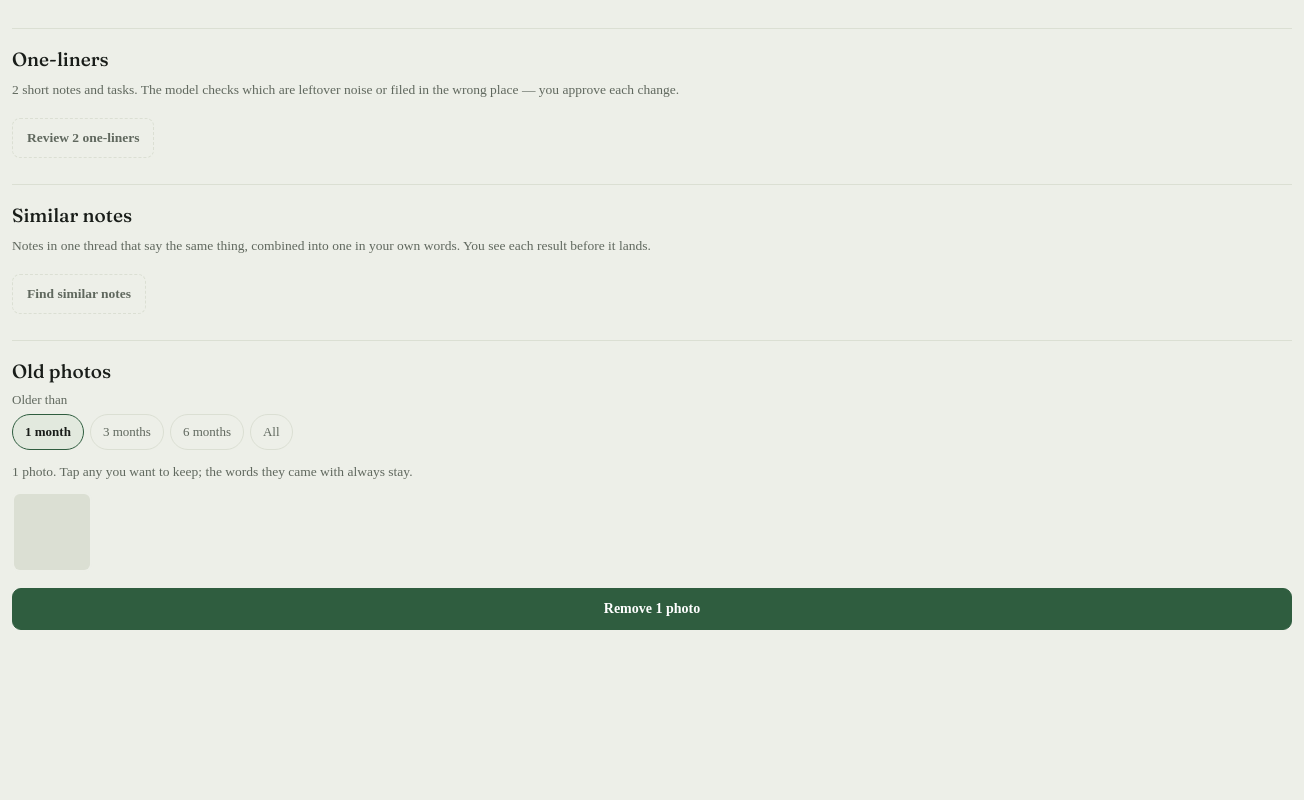
Test: changes nothing when the model does not answer
Click the button "Review 2 one-liners" at (83, 138), box [12, 118, 154, 158]
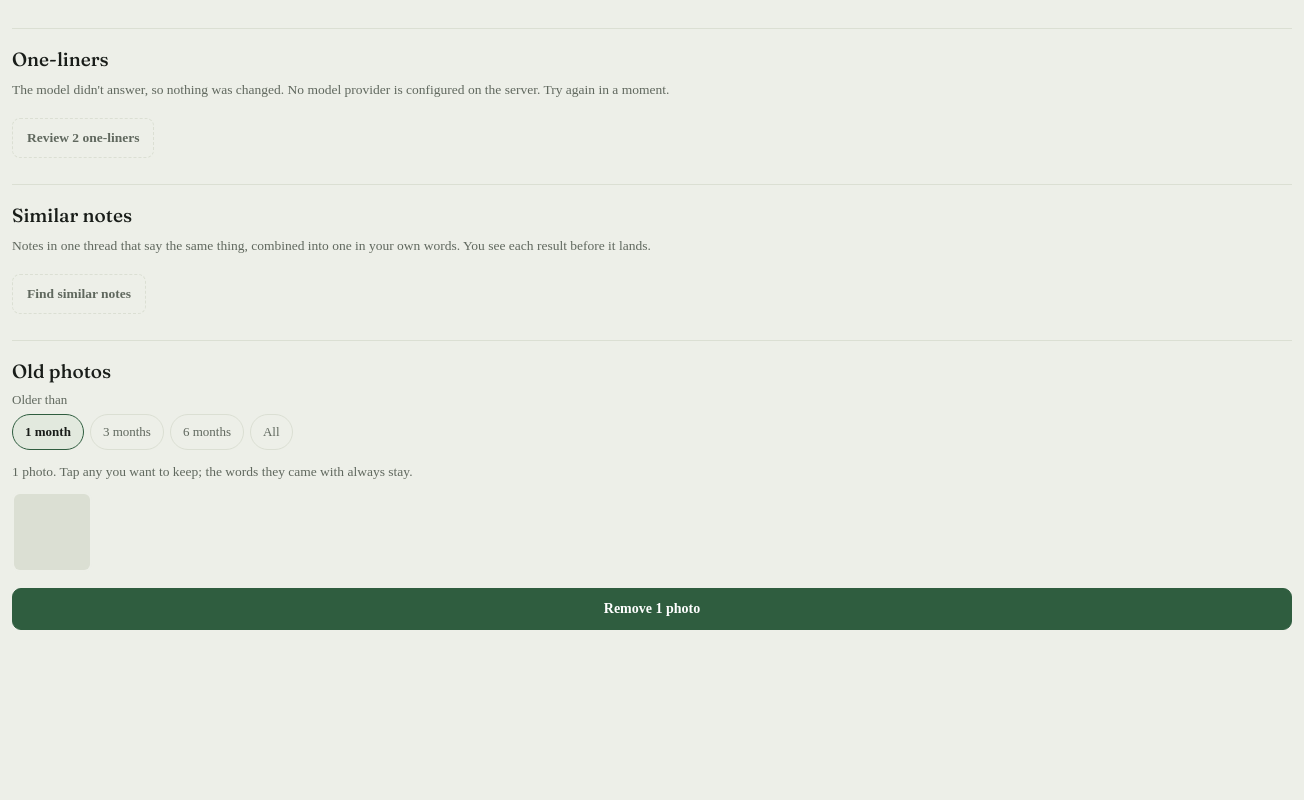
Expected: the text "The model didn't answer, so nothing was changed. No model provider" is shown, [12, 82, 669, 97]
